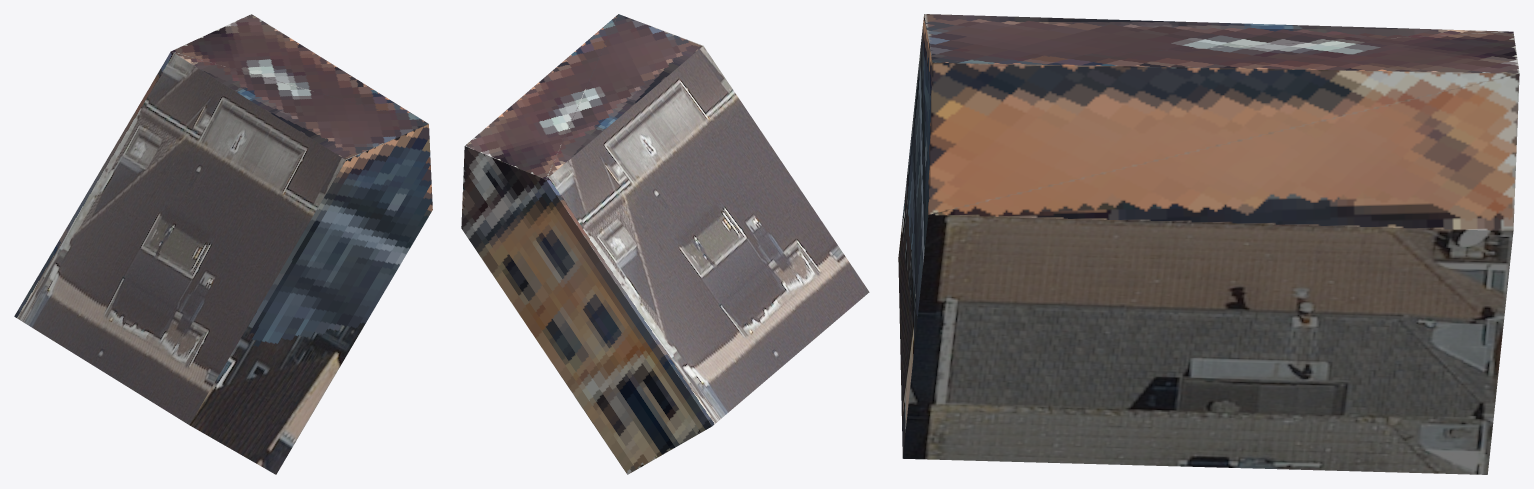
3 renders of one model, left to right at view 1: azimuth 30°, elevation 25°; view 2: azimuth 150°, elevation 25°; view 3: azimuth 270°, elevation 25°, orthographic. The views are drawn at different scales.
Parts seen in each view (by area): view 1: BAG_0599100000688734 (×2); view 2: BAG_0599100000688734 (×3); view 3: BAG_0599100000688734 (×2).
Part boxes in pixels (<box>): BAG_0599100000688734 (×2): <box>14,14,432,474</box>; BAG_0599100000688734 (×3): <box>461,14,869,474</box>; BAG_0599100000688734 (×2): <box>898,14,1519,474</box>.
Size of the model in its own units: 10.79 by 12.68 by 12.85.
3 materials, 3 textured.
